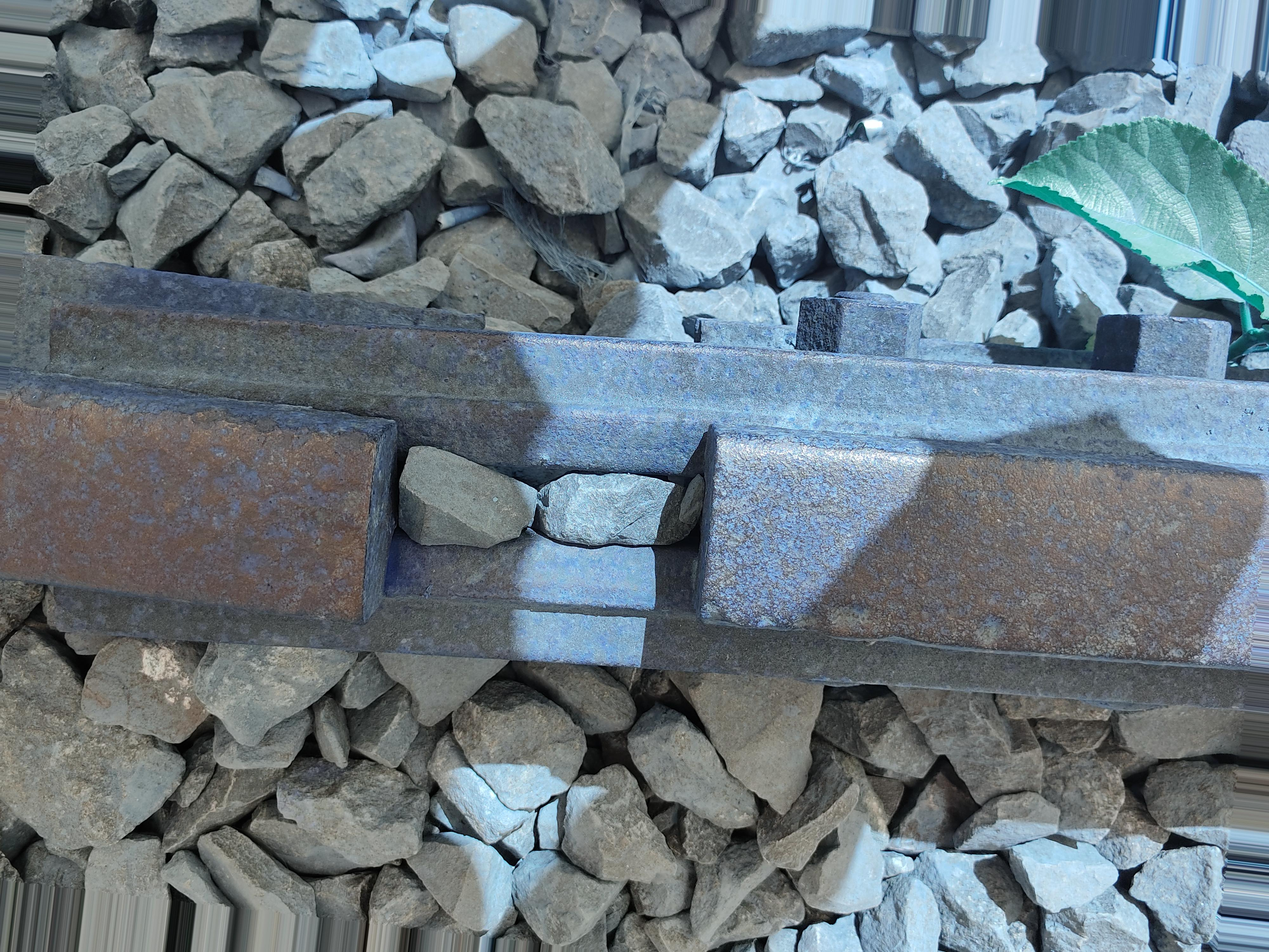tracks_fault: (320, 354, 756, 688)
